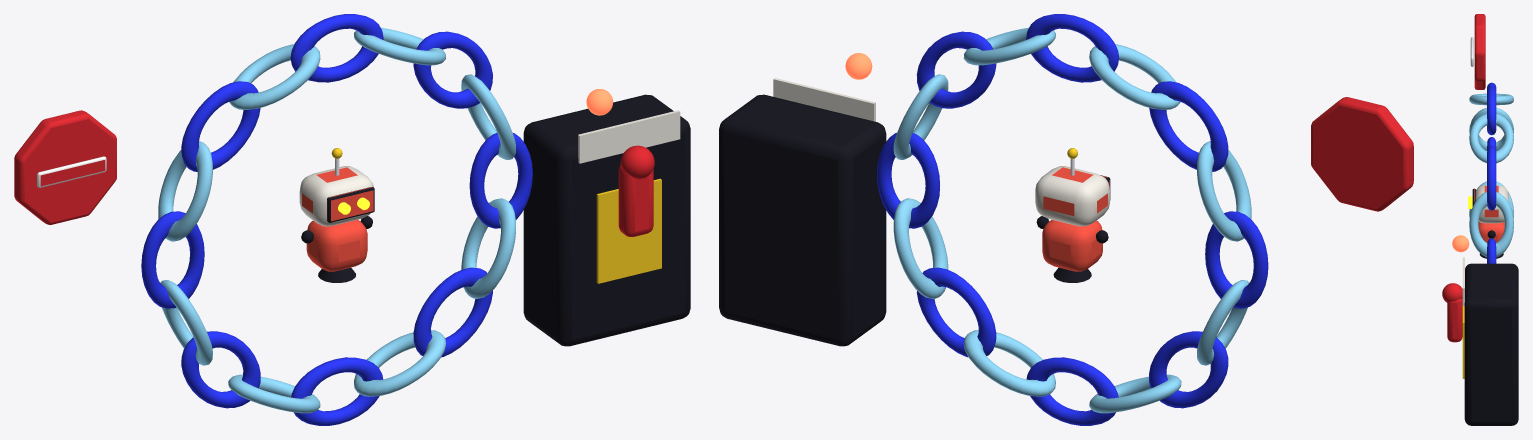
Rendered from loopguard.glb.
3 views of the same model, side by side, from view 1: azimuth 30°, elevation 25°; view 2: azimuth 150°, elevation 25°; view 3: azimuth 270°, elevation 25° (orthographic). The views are drawn at different scales.
Parts seen in each view (by area): view 1: roll_chain, breaker, bob_stop, bob_bot, swing_lever; view 2: roll_chain, breaker, bob_stop, bob_bot; view 3: breaker, roll_chain, bob_bot, bob_stop, swing_lever, pulse_lamp.
Part boxes in pixels (x1,y1,x2,y2): roll_chain: (141,14,532,425); breaker: (523,94,690,346); bob_stop: (14,110,116,224); bob_bot: (299,148,374,282); swing_lever: (618,145,654,236); roll_chain: (877,14,1268,425); breaker: (719,78,886,346); bob_stop: (1311,97,1413,211); bob_bot: (1035,148,1110,282); breaker: (1462,257,1518,425); roll_chain: (1469,82,1513,263); bob_bot: (1468,185,1508,258); bob_stop: (1470,14,1485,89); swing_lever: (1442,283,1462,342); pulse_lamp: (1452,235,1469,252).
Bounding box in the file's own units: 12.57 × 7.36 × 1.98.
